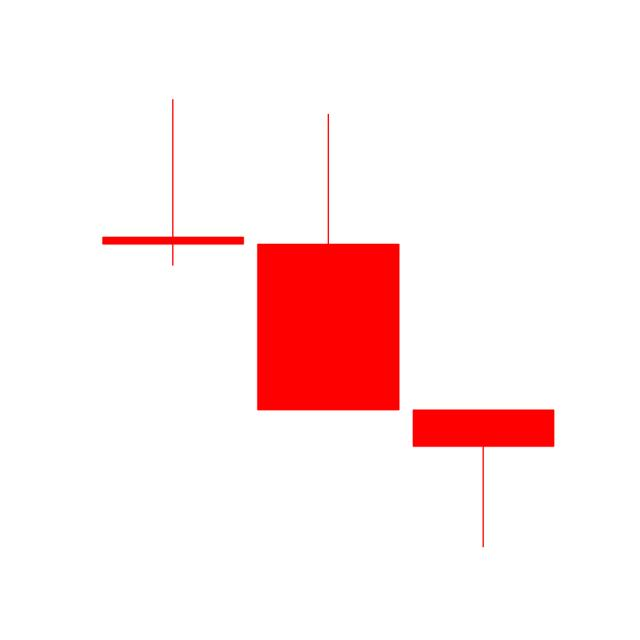Hanging Man: (405, 407, 561, 549)
